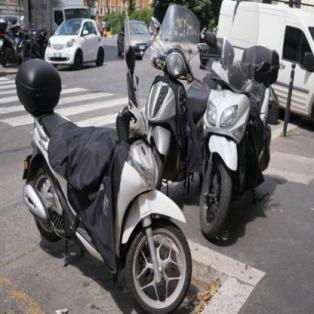Motocicleta: (11, 52, 194, 313), (195, 36, 274, 241), (130, 16, 193, 182)
